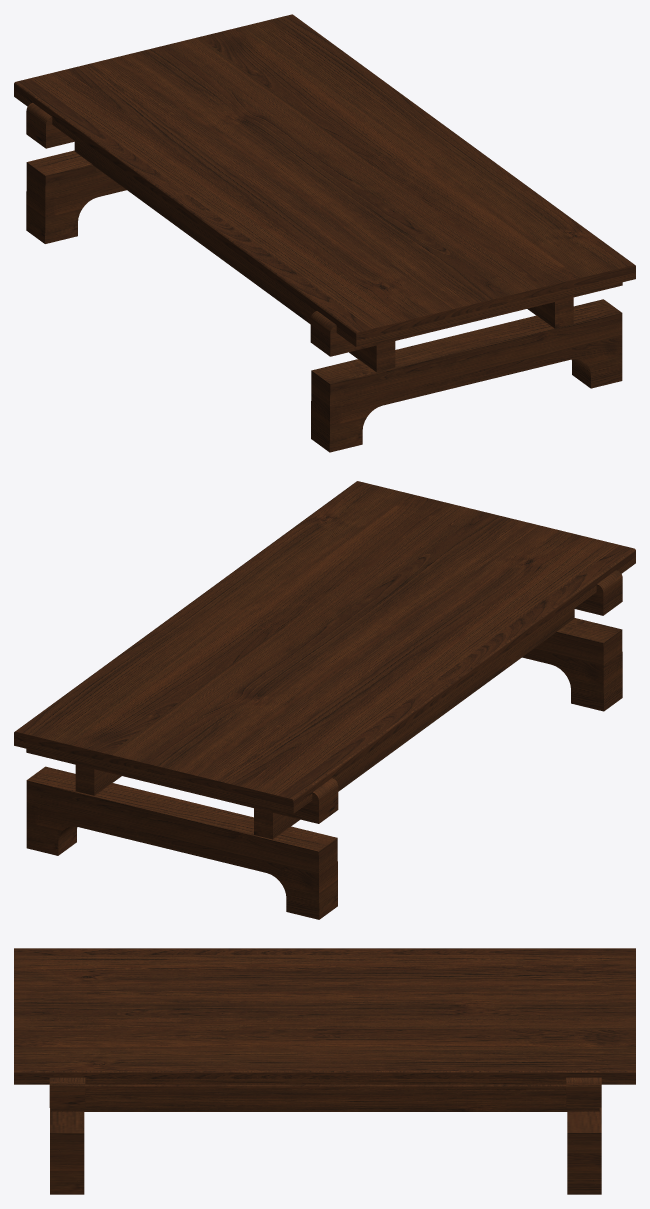
The model's file is Table 1.FBX.
3 views of the same model, one above another, from view 1: azimuth 30°, elevation 25°; view 2: azimuth 150°, elevation 25°; view 3: azimuth 270°, elevation 25° (orthographic). The views are drawn at different scales.
Visible parts, largest first — view 1: table 1; view 2: table 1; view 3: table 1.
Boxes of the visible parts, x1,y1,x2,y2 form: table 1: (14,14,635,452); table 1: (14,481,635,919); table 1: (14,948,635,1194).
Size of the model in its own units: 62.94 by 27.25 by 127.
1 material, 1 textured.
